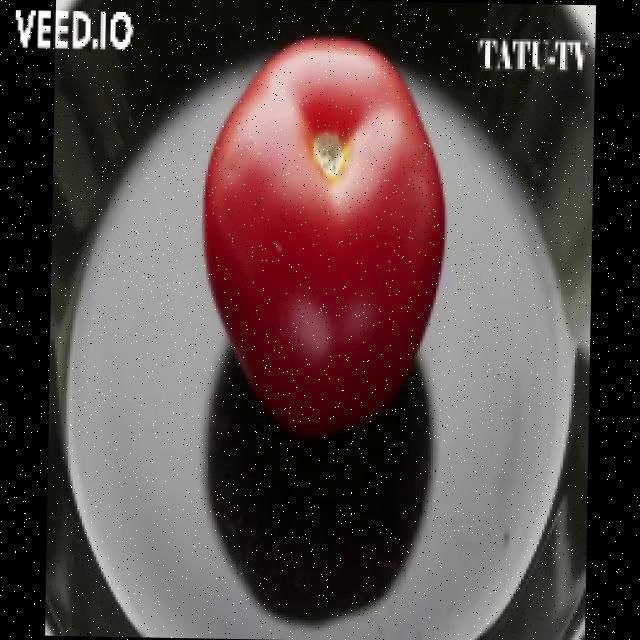tomato: (201, 37, 448, 443)
